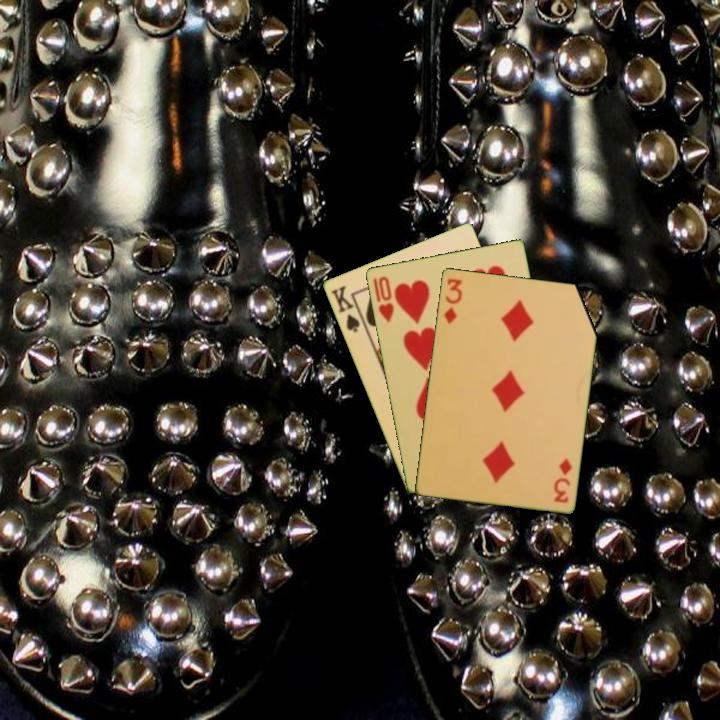10h: (369, 273, 396, 325)
3d: (550, 455, 575, 505), (440, 274, 464, 326)
Ks: (327, 282, 367, 335)
